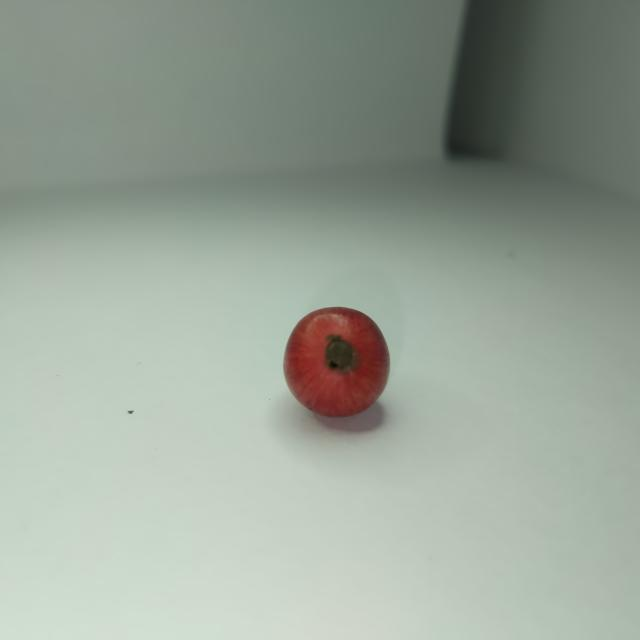Infectado: (281, 307, 392, 422)
